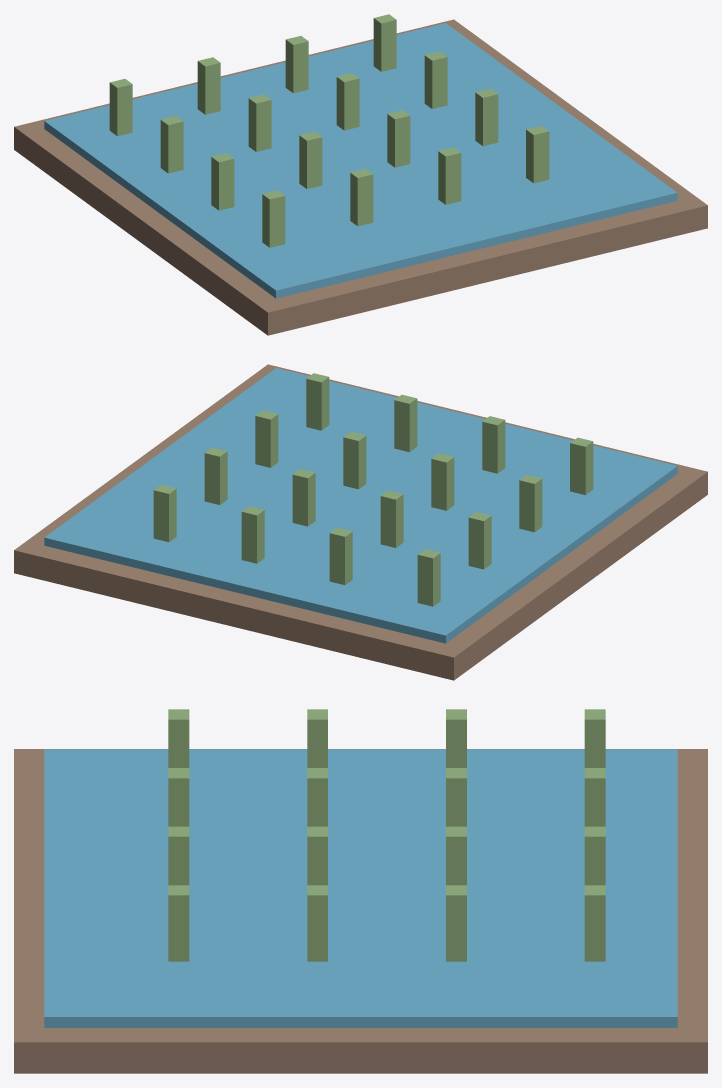
The model's file is rice_field_4m.glb.
3 views of the same model, one above another, from view 1: azimuth 30°, elevation 25°; view 2: azimuth 150°, elevation 25°; view 3: azimuth 270°, elevation 25° (orthographic). The views are drawn at different scales.
Visible parts, largest first — view 1: water, soil, grass; view 2: water, soil, grass; view 3: water, soil, grass.
Part boxes in pixels (box(x1,y1,x2,y2)): water: box(44, 23, 677, 298); soil: box(14, 19, 707, 335); grass: box(109, 14, 549, 247); water: box(44, 368, 677, 643); soil: box(14, 364, 707, 680); grass: box(153, 373, 593, 606); water: box(44, 749, 677, 1027); soil: box(14, 749, 707, 1073); grass: box(168, 709, 605, 961).
Size of the model in its own units: 4 by 0.7 by 4.
